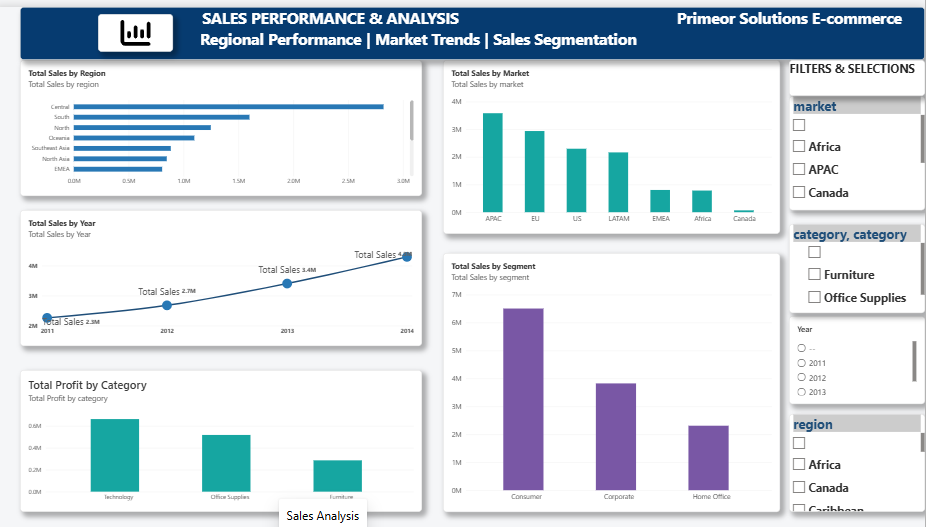

The dashboard page shown, as its layout file describes it:
{"tool":"powerbi","page":{"name":"Sales Analysis","canvas":[1920,1080],"ordinal":1},"visuals":[{"type":"clusteredBarChart","title":"Total Sales by Region","fields":{"Category":["Cleaned_Ecommerce_Dataset.region"],"Y":["Cleaned_Ecommerce_Dataset.Total Sales"]},"box":[51.6,109.4,829.9,280.8],"z":0},{"type":"clusteredColumnChart","title":"Total Sales by Market","fields":{"Category":["Cleaned_Ecommerce_Dataset.market"],"Y":["Cleaned_Ecommerce_Dataset.Total Sales"]},"box":[924.9,109.4,695.7,359.2],"z":1000},{"type":"lineChart","title":"Total Sales by Year","fields":{"Category":["Cleaned_Ecommerce_Dataset.order_date.Variation.Date Hierarchy.Year","Cleaned_Ecommerce_Dataset.order_date.Variation.Date Hierarchy.Quarter","Cleaned_Ecommerce_Dataset.order_date.Variation.Date Hierarchy.Month","Cleaned_Ecommerce_Dataset.order_date.Variation.Date Hierarchy.Day"],"Y":["Cleaned_Ecommerce_Dataset.Total Sales"]},"box":[51.6,419.1,829.9,280.8],"z":2000},{"type":"clusteredColumnChart","title":"Total Sales by Segment","fields":{"Category":["Cleaned_Ecommerce_Dataset.segment"],"Y":["Cleaned_Ecommerce_Dataset.Total Sales"]},"box":[924.9,507.9,695.7,534.7],"z":3000},{"type":"clusteredColumnChart","title":"Total Profit by Category","fields":{"Category":["Cleaned_Ecommerce_Dataset.category"],"Y":["Cleaned_Ecommerce_Dataset.Total Profit"]},"box":[51.6,749.4,829.9,293.2],"z":4000},{"type":"listSlicer","fields":{"Values":["Cleaned_Ecommerce_Dataset.order_date.Variation.Date Hierarchy.Year"]},"box":[1639.2,637.9,280.8,181.7],"z":5000},{"type":"slicer","fields":{"Values":["Cleaned_Ecommerce_Dataset.market"]},"box":[1639.2,183.7,280.8,235.6],"z":6000},{"type":"slicer","fields":{"Values":["Cleaned_Ecommerce_Dataset.region"]},"box":[1639.2,840.3,280.8,202.3],"z":7000},{"type":"slicer","fields":{"Values":["Cleaned_Ecommerce_Dataset.category","Cleaned_Ecommerce_Dataset.category"]},"box":[1639.2,448,280.8,183.7],"z":8000},{"type":"textbox","box":[51.6,0,1868.4,109.4],"z":9000},{"type":"textbox","box":[1639.2,109.4,280.8,74.3],"z":9001},{"type":"image","box":[212.6,14.5,154.8,78.5],"z":9002}]}

Visuals, with their boxes in screenshot pixels (x1, y1, x2, y2), scaled from the page's 1920x1080 canvas onto the 933x527 screenshot:
"Total Sales by Region" clusteredBarChart: 25 53 428 190
"Total Sales by Market" clusteredColumnChart: 449 53 788 229
"Total Sales by Year" lineChart: 25 205 428 342
"Total Sales by Segment" clusteredColumnChart: 449 248 788 509
"Total Profit by Category" clusteredColumnChart: 25 366 428 509
listSlicer - Cleaned_Ecommerce_Dataset.order_date.Variation.Date Hierarchy.Year: 797 311 932 400
slicer - Cleaned_Ecommerce_Dataset.market: 797 90 932 205
slicer - Cleaned_Ecommerce_Dataset.region: 797 410 932 509
slicer - Cleaned_Ecommerce_Dataset.category x Cleaned_Ecommerce_Dataset.category: 797 219 932 308
textbox: 25 0 932 53
textbox: 797 53 932 90
image: 103 7 179 45
